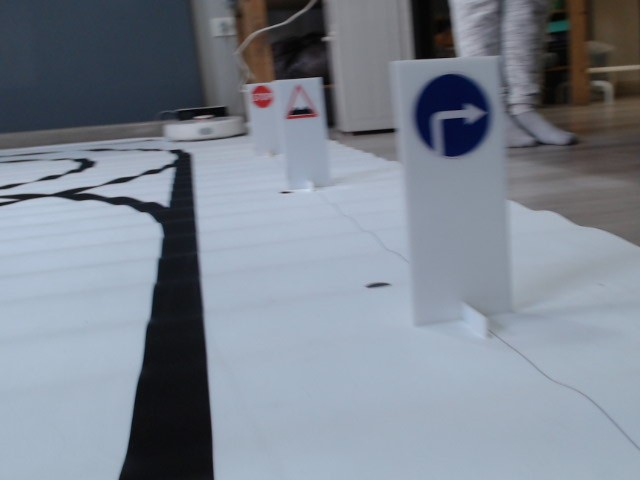Nerov: (286, 85, 317, 119)
Right: (410, 71, 491, 159)
Stop: (250, 85, 272, 110)
